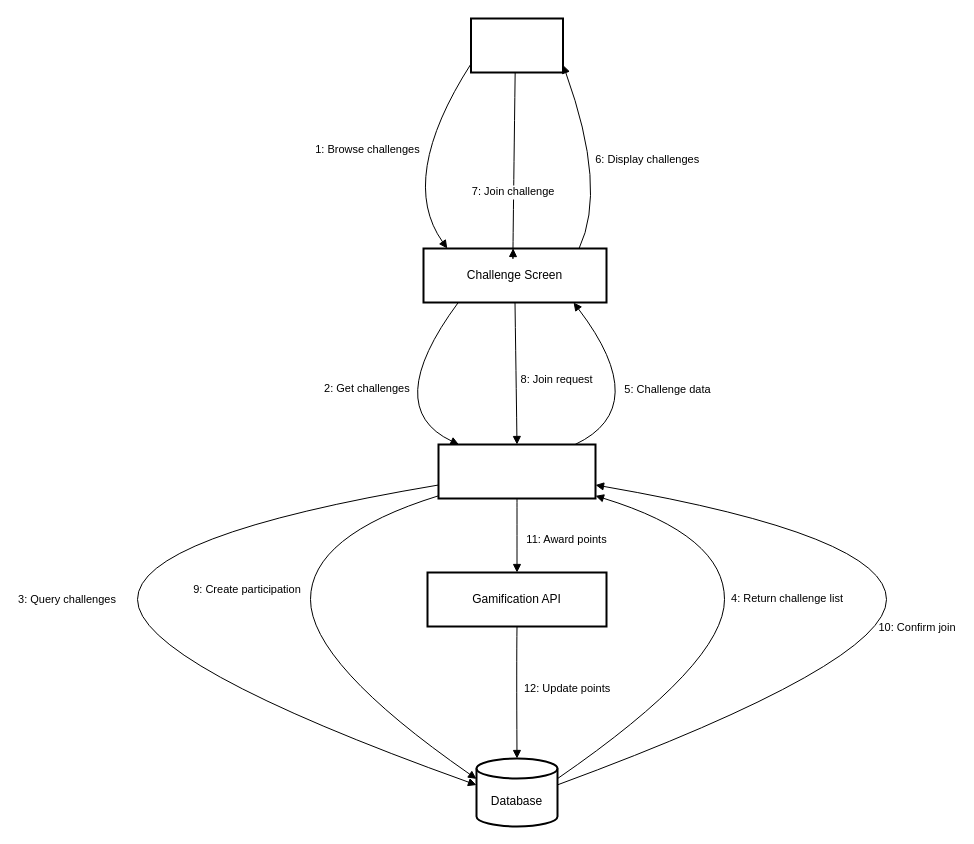
Image size: 974x844. Some labels were removed from this diagram. Each missing label, with the box of its shape:
Challenge API: (437, 443, 596, 499)
User: (470, 17, 564, 73)
